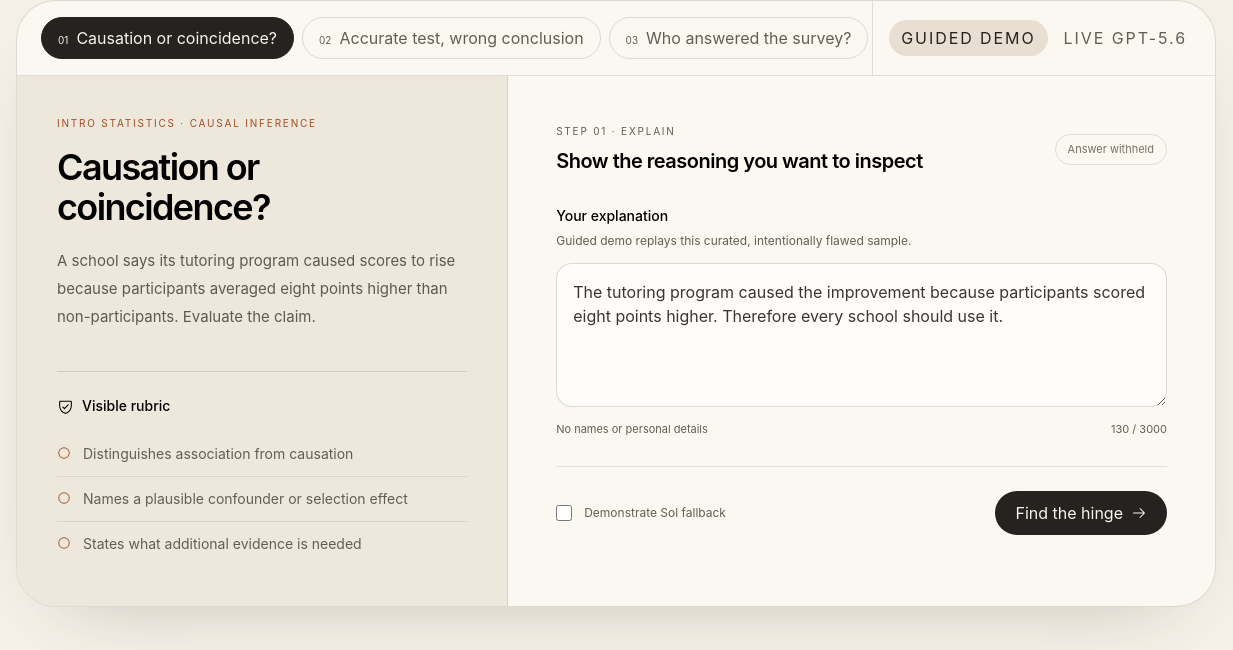
Scenario: RepairStudio › switches labs and resets the learner workspace
Click the button "Live GPT-5.6" at (1125, 38), box [1052, 20, 1199, 56]
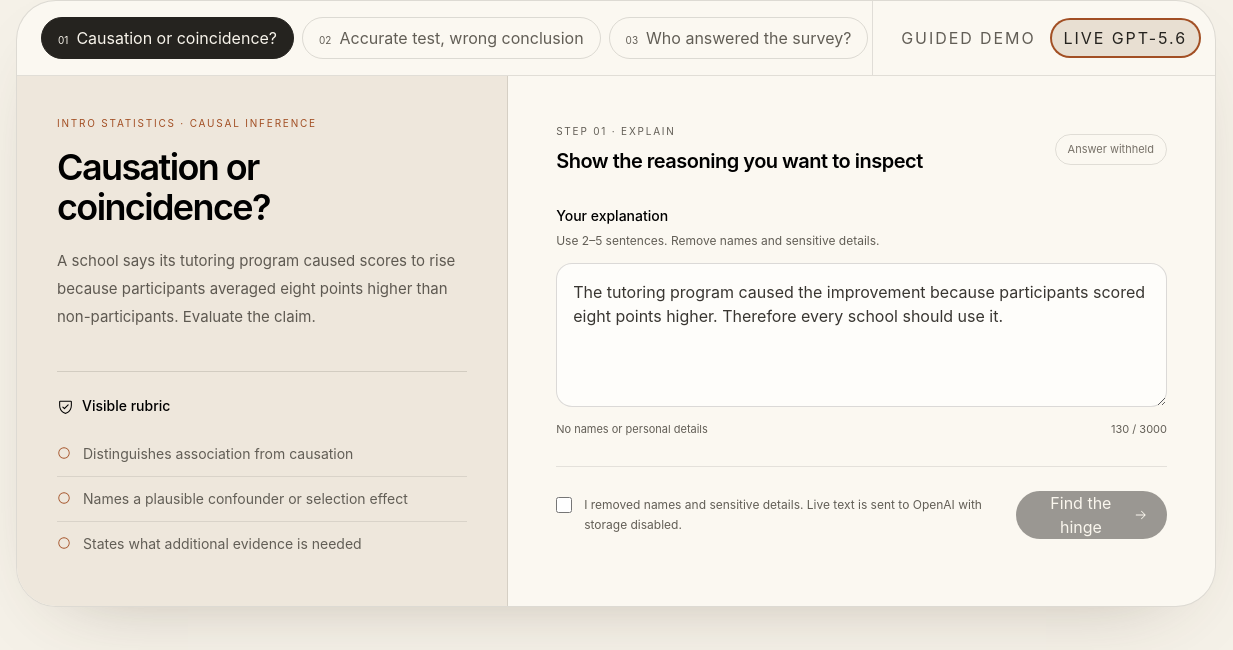
Replace the text in the text box labelled "Your explanation" with "Temporary draft" at (862, 335), box [556, 263, 1167, 407]
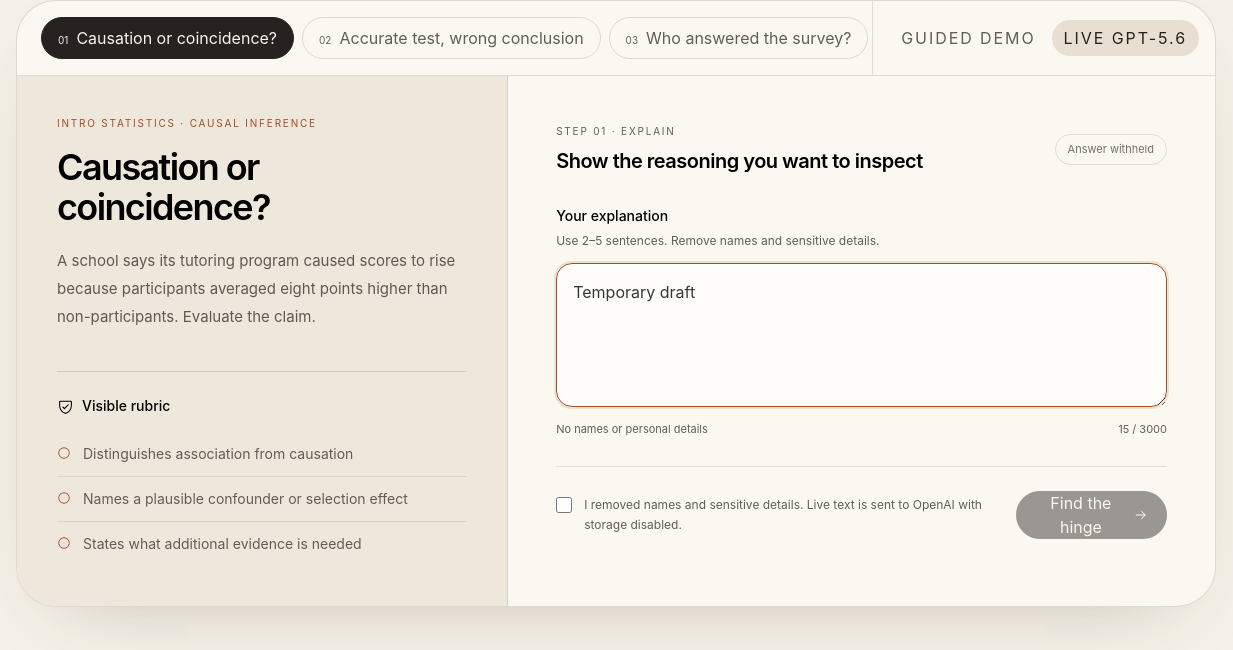
Click the button "02Accurate test, wrong conclusion" at (451, 38), box [302, 17, 601, 59]
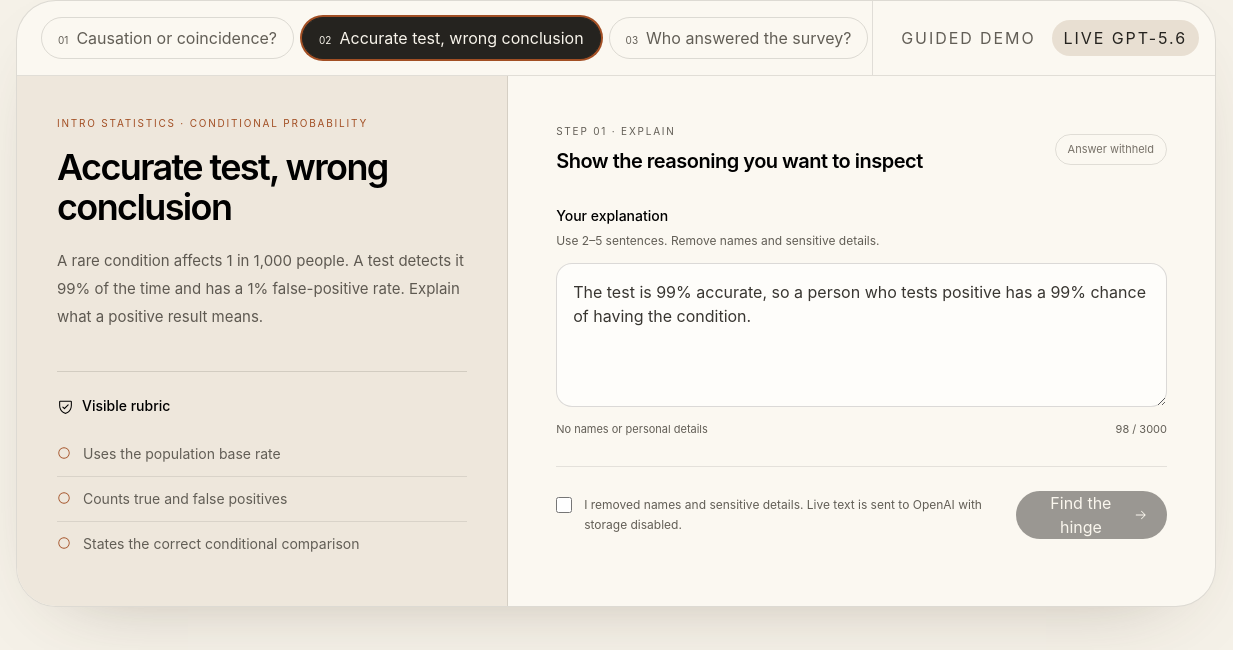
Check: the heading "Accurate test, wrong conclusion" is shown, box [57, 145, 388, 229]
Check: the text box labelled "Your explanation" holds "The test is 99% accurate, so a person who tests positive has a 99% chance of having the condition.", box [556, 263, 1167, 407]
